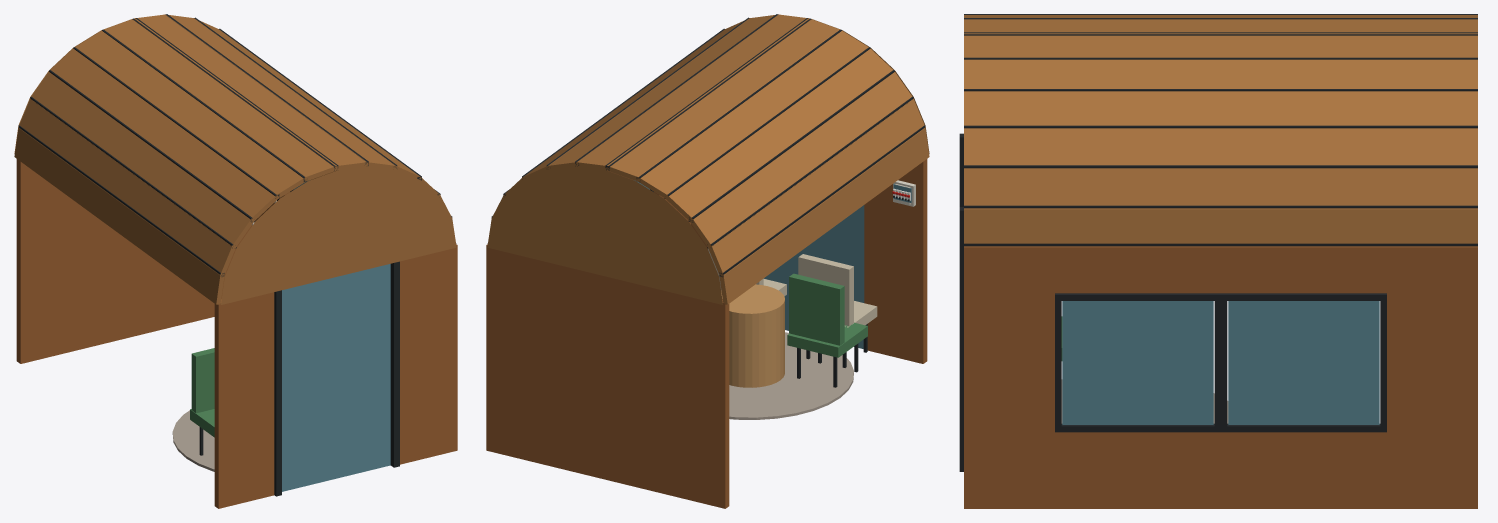
File: A3_interior_measured.glb
The picture shows the model from 3 angles, left to right: view 1: azimuth 30°, elevation 25°; view 2: azimuth 150°, elevation 25°; view 3: azimuth 270°, elevation 25°; orthographic projection. The views are drawn at different scales.
Parts seen in each view (by area): view 1: ARCH_A3_NORTH_WALL, ARCH_A3_DOOR_GLASS, ARCH_A3_ROOF_SOUTH_END_CAP, ARCH_A3_SOUTH_WALL_L, ARCH_A3_SOUTH_WALL_R, ARCH_A3_ROOF_PANEL_04, ARCH_A3_ROOF_PANEL_03, ARCH_A3_ROOF_PANEL_05, ARCH_A3_ROOF_PANEL_02, ARCH_A3_ROOF_PANEL_06, ARCH_A3_ROOF_PANEL_01, ARCH_A3_ROOF_PANEL_07 (+14 smaller); view 2: ARCH_A3_NORTH_WALL, ARCH_A3_ROOF_NORTH_END_CAP, ARCH_A3_SOUTH_WALL_L, ARCH_A3_ROOF_PANEL_04, ARCH_A3_ROOF_PANEL_03, ARCH_A3_ROOF_PANEL_05, ARCH_A3_ROOF_PANEL_02, ARCH_A3_ROOF_PANEL_06, ARCH_A3_ROOF_PANEL_01, FURN_A3_RUG_01, ARCH_A3_ROOF_PANEL_07, FURN_A3_ROUND_TABLE_01 (+13 smaller); view 3: ARCH_A3_EAST_WALL_BELOW_WINDOWS, ARCH_A3_EAST_WALL_ABOVE_WINDOWS, ARCH_A3_ROOF_PANEL_11, ARCH_A3_ROOF_PANEL_10, ARCH_A3_EAST_WINDOW_01, ARCH_A3_EAST_WINDOW_02, ARCH_A3_ROOF_PANEL_09, ARCH_A3_ROOF_PANEL_12, ARCH_A3_ROOF_PANEL_08, ARCH_A3_EAST_WALL_JAMB_1, ARCH_A3_EAST_WALL_JAMB_2, ARCH_A3_ROOF_PANEL_07 (+19 smaller).
Part boxes in pixels (x1=…): ARCH_A3_NORTH_WALL: x1=16, y1=159, x2=252, y2=363; ARCH_A3_DOOR_GLASS: x1=282, y1=264, x2=390, y2=491; ARCH_A3_ROOF_SOUTH_END_CAP: x1=221, y1=166, x2=456, y2=304; ARCH_A3_SOUTH_WALL_L: x1=214, y1=292, x2=274, y2=508; ARCH_A3_SOUTH_WALL_R: x1=400, y1=249, x2=454, y2=464; ARCH_A3_ROOF_PANEL_04: x1=51, y1=47, x2=279, y2=221; ARCH_A3_ROOF_PANEL_03: x1=31, y1=72, x2=254, y2=247; ARCH_A3_ROOF_PANEL_05: x1=76, y1=29, x2=307, y2=197; ARCH_A3_ROOF_PANEL_02: x1=18, y1=99, x2=236, y2=275; ARCH_A3_ROOF_PANEL_06: x1=104, y1=18, x2=337, y2=181; ARCH_A3_ROOF_PANEL_01: x1=14, y1=128, x2=224, y2=304; ARCH_A3_ROOF_PANEL_07: x1=134, y1=14, x2=367, y2=170; ARCH_A3_NORTH_WALL: x1=489, y1=248, x2=729, y2=508; ARCH_A3_ROOF_NORTH_END_CAP: x1=487, y1=166, x2=722, y2=304; ARCH_A3_SOUTH_WALL_L: x1=864, y1=159, x2=927, y2=363; ARCH_A3_ROOF_PANEL_04: x1=664, y1=47, x2=892, y2=220; ARCH_A3_ROOF_PANEL_03: x1=689, y1=72, x2=912, y2=246; ARCH_A3_ROOF_PANEL_05: x1=636, y1=29, x2=867, y2=198; ARCH_A3_ROOF_PANEL_02: x1=707, y1=99, x2=925, y2=275; ARCH_A3_ROOF_PANEL_06: x1=606, y1=18, x2=839, y2=181; ARCH_A3_ROOF_PANEL_01: x1=719, y1=128, x2=929, y2=304; FURN_A3_RUG_01: x1=729, y1=332, x2=853, y2=419; ARCH_A3_ROOF_PANEL_07: x1=576, y1=14, x2=809, y2=169; FURN_A3_ROUND_TABLE_01: x1=721, y1=284, x2=784, y2=387; ARCH_A3_EAST_WALL_BELOW_WINDOWS: x1=964, y1=430, x2=1477, y2=508; ARCH_A3_EAST_WALL_ABOVE_WINDOWS: x1=964, y1=246, x2=1477, y2=293; ARCH_A3_ROOF_PANEL_11: x1=964, y1=168, x2=1477, y2=209; ARCH_A3_ROOF_PANEL_10: x1=964, y1=128, x2=1477, y2=168; ARCH_A3_EAST_WINDOW_01: x1=1062, y1=301, x2=1213, y2=424; ARCH_A3_EAST_WINDOW_02: x1=1228, y1=301, x2=1379, y2=424; ARCH_A3_ROOF_PANEL_09: x1=964, y1=88, x2=1477, y2=125; ARCH_A3_ROOF_PANEL_12: x1=964, y1=209, x2=1477, y2=246; ARCH_A3_ROOF_PANEL_08: x1=964, y1=57, x2=1477, y2=88; ARCH_A3_EAST_WALL_JAMB_1: x1=964, y1=293, x2=1054, y2=430; ARCH_A3_EAST_WALL_JAMB_2: x1=1387, y1=293, x2=1477, y2=430; ARCH_A3_ROOF_PANEL_07: x1=964, y1=33, x2=1477, y2=56.
Size of the model in its own units: 2.49 by 3.06 by 3.64.
